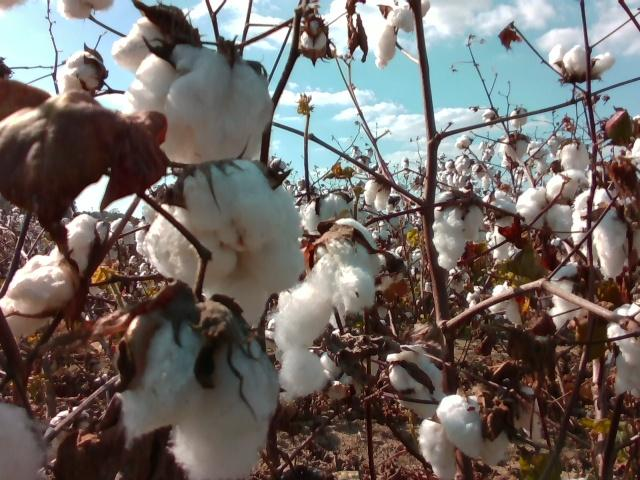cotton_ready: (115, 312, 282, 480), (144, 159, 306, 328), (273, 216, 384, 401), (123, 42, 277, 163), (0, 211, 100, 338), (419, 395, 512, 480), (572, 185, 640, 276), (515, 167, 588, 236), (431, 188, 485, 271), (110, 14, 181, 73), (0, 400, 51, 480), (389, 350, 448, 419), (320, 328, 383, 389), (377, 0, 431, 68), (607, 297, 640, 399), (549, 262, 587, 328), (56, 47, 106, 97), (305, 189, 355, 236), (548, 44, 617, 78), (45, 404, 88, 458), (488, 284, 531, 328), (57, 0, 115, 20), (299, 17, 330, 54), (363, 175, 389, 210)
